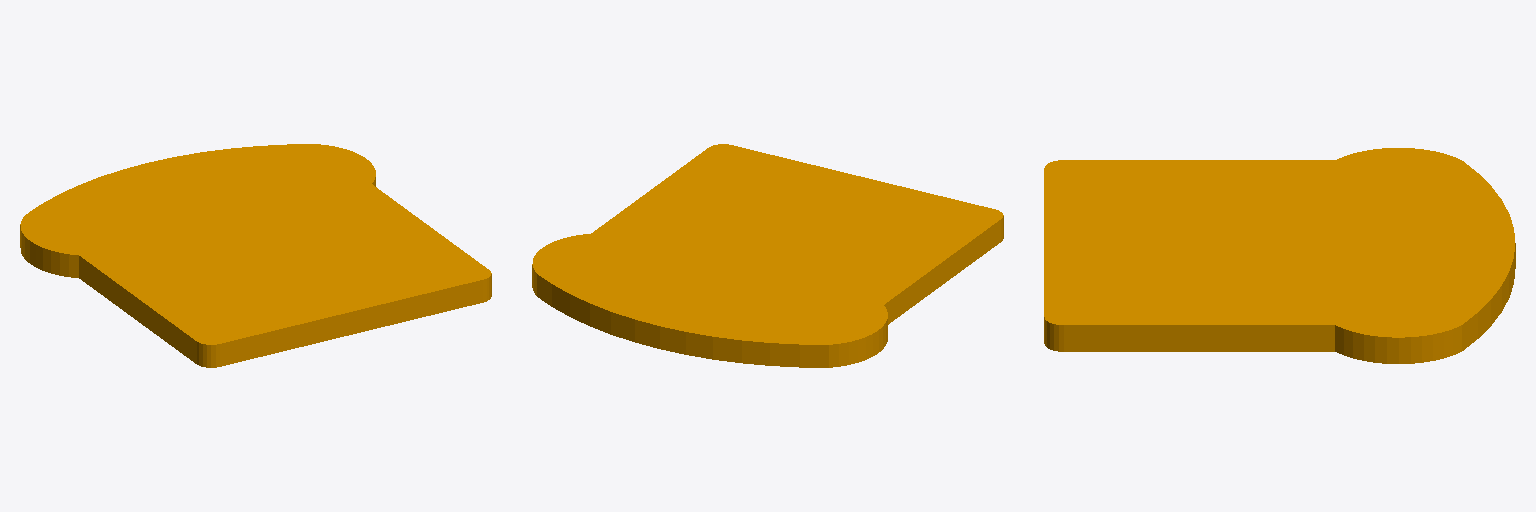
URDF robot description (textured):
<?xml version="1.0" ?>
<robot name="textured">
  <link name="base_link">

    <inertial>
      <mass value="1.0"/>
      <inertia ixx="1" ixy="0" ixz="0" iyy="1" iyz="0" izz="1"/>
    </inertial>

    <visual>
      <origin rpy="0 0 0" xyz="0 0 0"/>
      <geometry>
        <mesh filename="a519b4452df538bb6784d208b59d3e05.obj" scale="0.02 0.02 0.02"/>
      </geometry>
      <material name="bowl"/>
    </visual>

    <collision>
      <origin rpy="0 0 0" xyz="0 0 0"/>
      <geometry>
        <mesh filename="a519b4452df538bb6784d208b59d3e05.obj" scale="0.02 0.02 0.02"/>
      </geometry>
    </collision>

  </link>
</robot>

--- Facts derived from the render (not from the file) ---
Views: 3 orthographic renders of the robot side by side, from view 1: azimuth 30°, elevation 25°; view 2: azimuth 150°, elevation 25°; view 3: azimuth 270°, elevation 25°.
Robot: textured — 1 links, 0 joints (none); root link base_link; default pose: every joint at zero.
Links seen in each view (by area): view 1: base_link; view 2: base_link; view 3: base_link.
Boxes of the visible links, x1,y1,x2,y2 form: base_link: (20, 144, 491, 367); base_link: (532, 144, 1003, 367); base_link: (1044, 148, 1515, 363).
Size in the robot's own frame: 0.115 by 0.1205 by 0.0075 metres.
Meshes: 1 distinct files referenced, 1 mesh visuals loaded (1 OBJ).